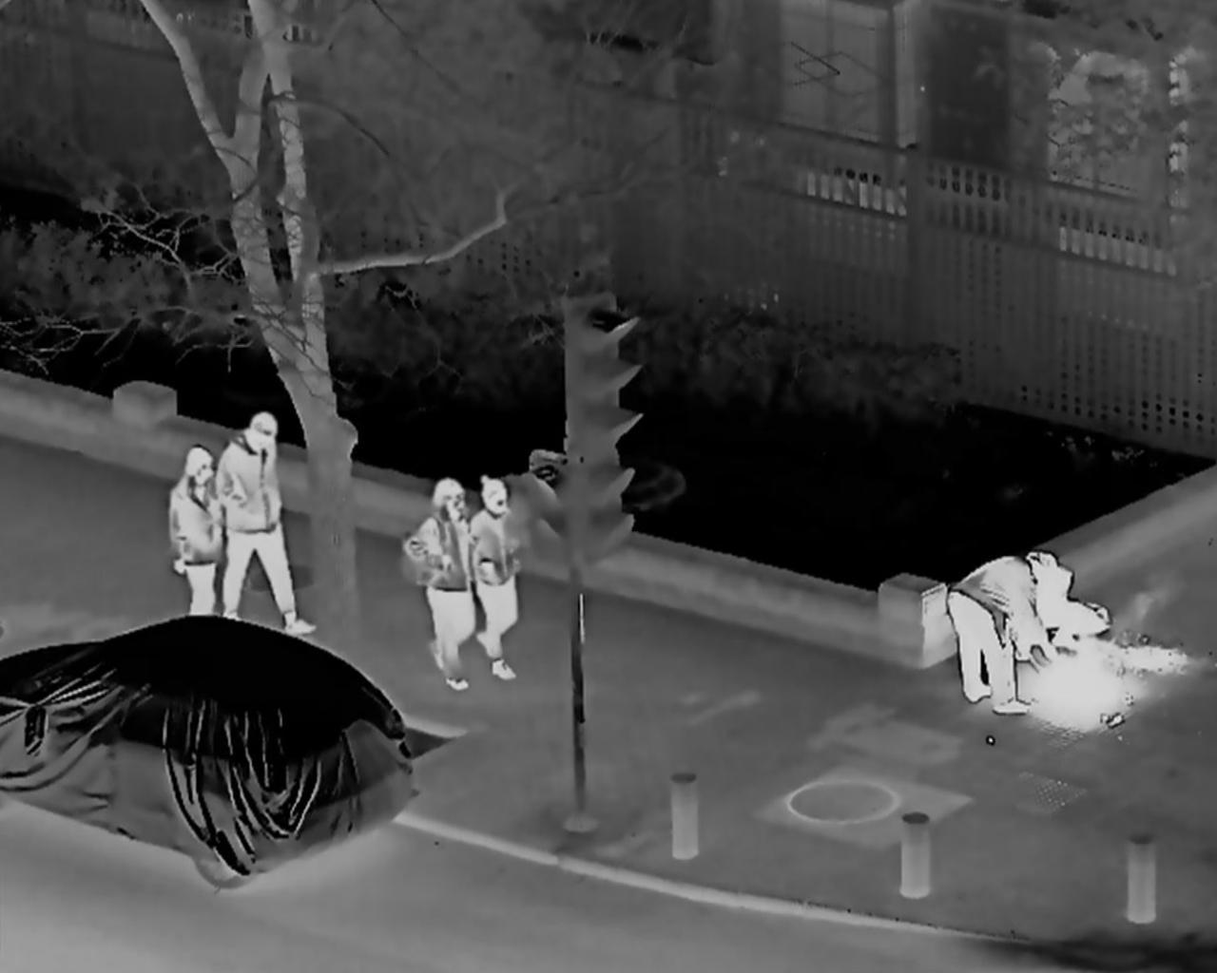person: (210, 414, 316, 633), (948, 551, 1051, 716), (406, 484, 479, 692), (997, 544, 1112, 665), (465, 481, 531, 681), (163, 448, 227, 630)
